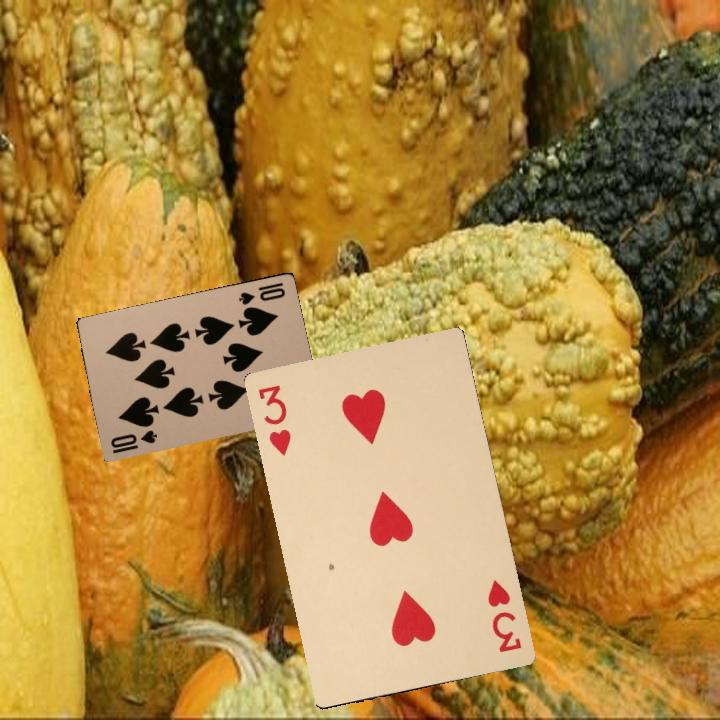10s: (106, 426, 160, 456), (235, 278, 288, 307)
3h: (483, 576, 524, 655), (254, 380, 294, 458)
